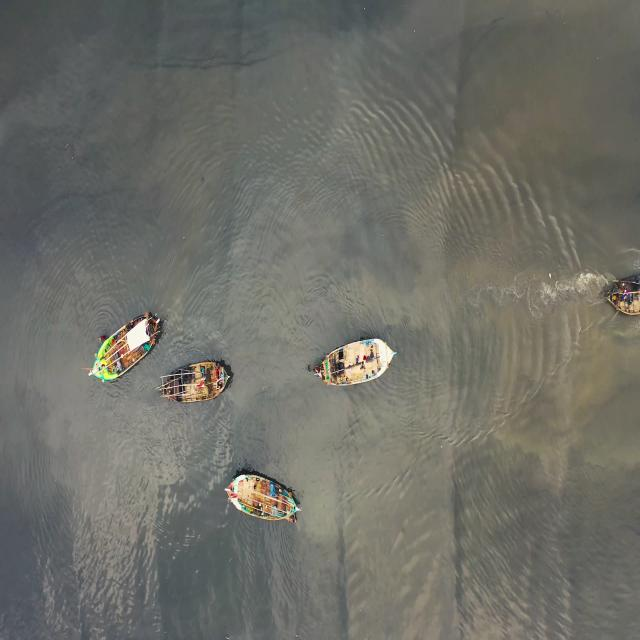ship: (82, 305, 164, 388), (306, 334, 404, 388), (223, 467, 304, 531), (160, 357, 232, 404), (609, 268, 637, 320)
